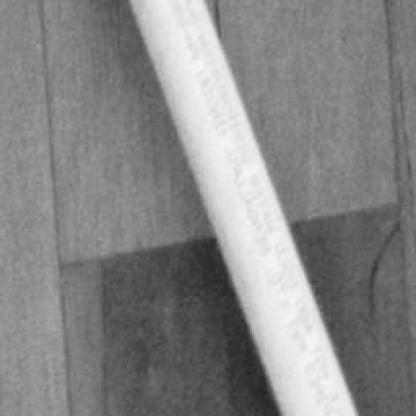PVC: (127, 1, 363, 414)
